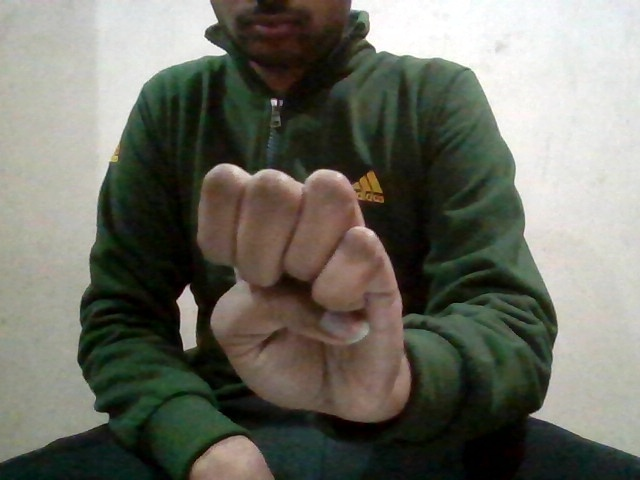E: (189, 163, 418, 422)
